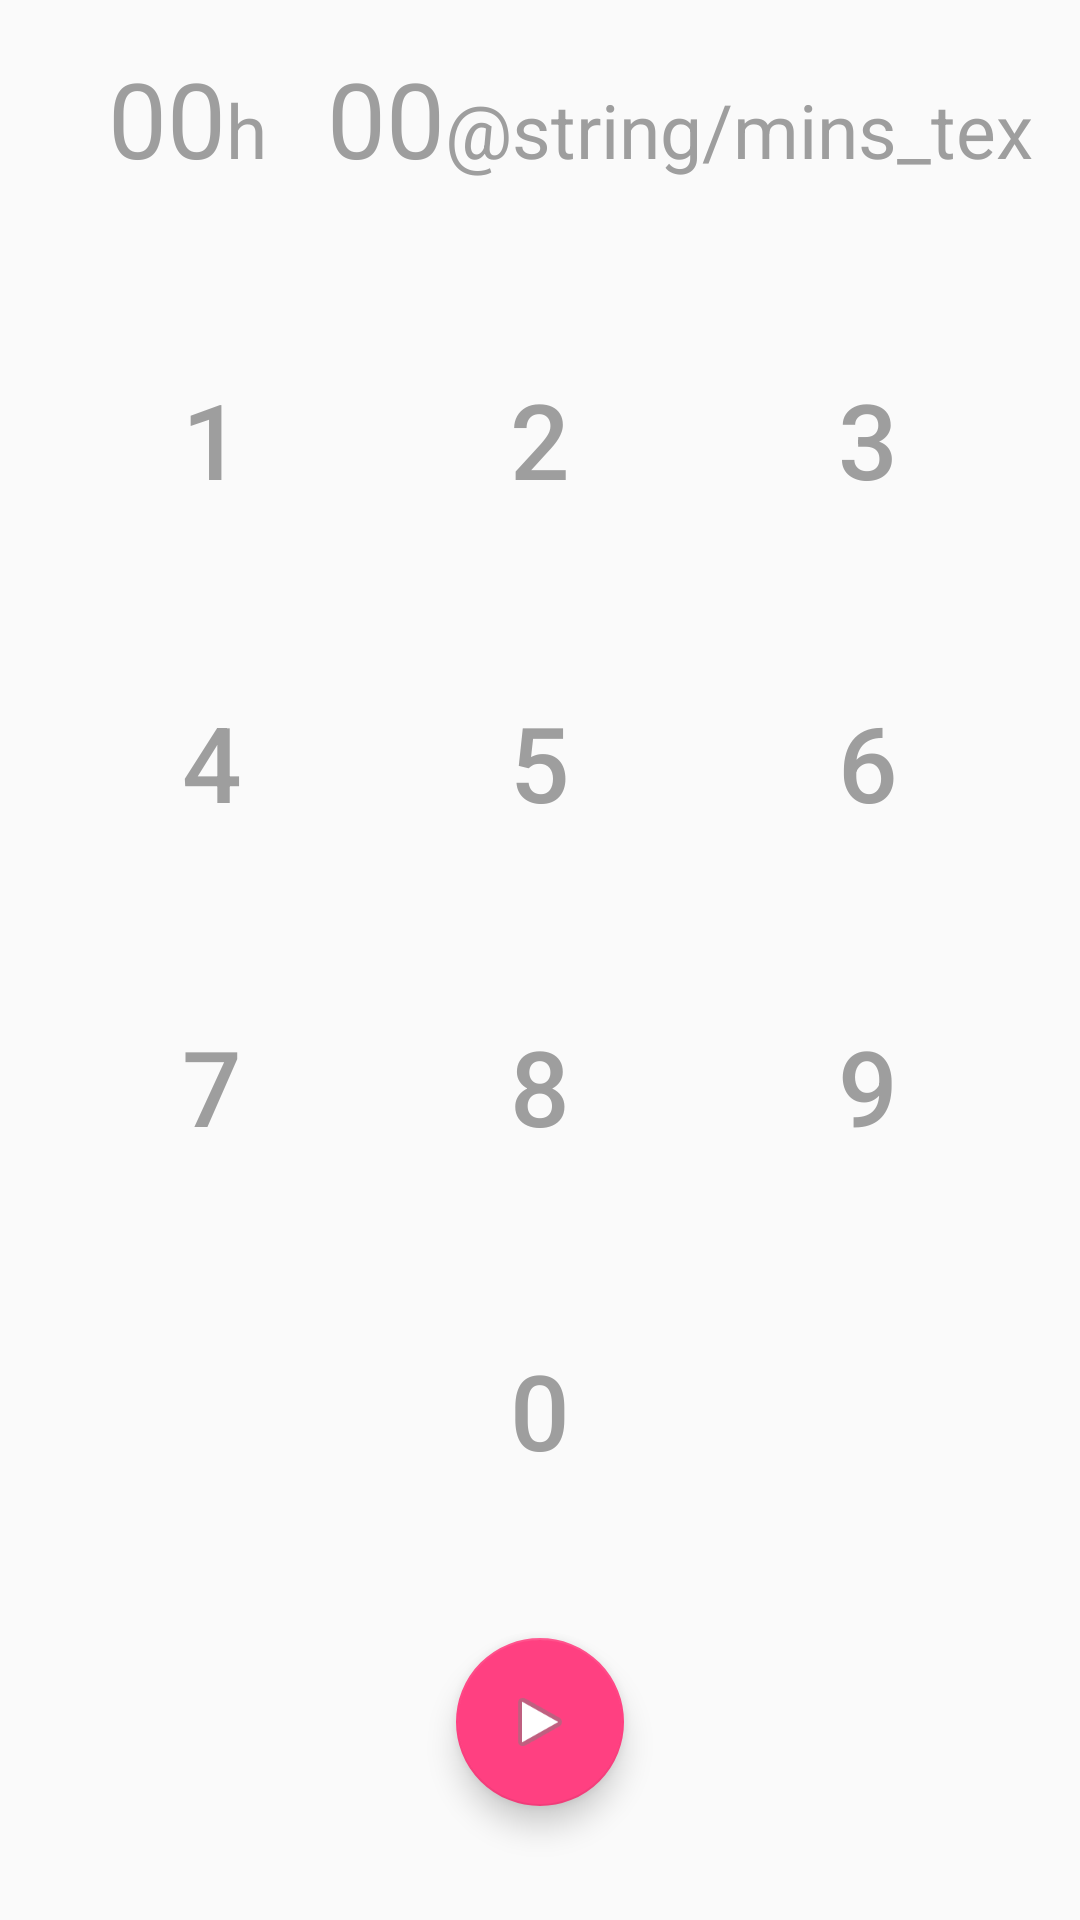

Icon bounding boxes for this 1080 × 1920 phone screenshot, format (x1, y1, x2, y2):
play: (456, 1638, 624, 1806)
